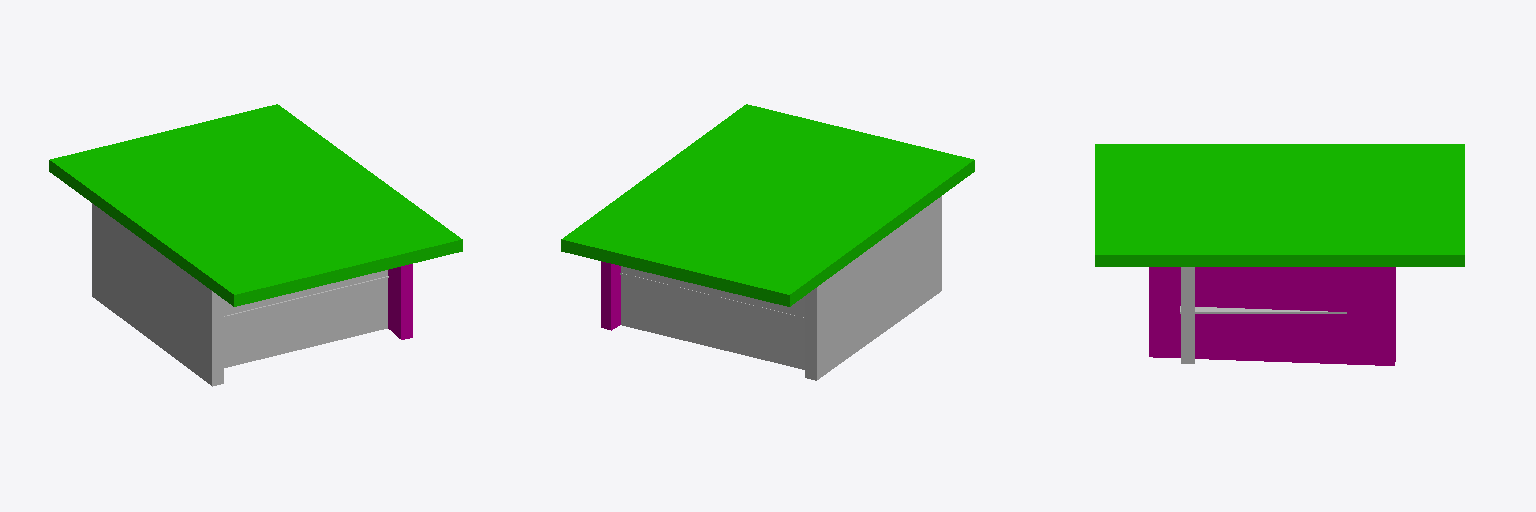
Rendered from Testroom.obj.obj.
3 views of the same model, side by side, from view 1: azimuth 30°, elevation 25°; view 2: azimuth 150°, elevation 25°; view 3: azimuth 270°, elevation 25° (orthographic).
Visible parts, largest first — view 1: Cube.005_Material.004, Cube.003_Material.006, Cube.002_Material.002, Cube.004_Material.003; view 2: Cube.005_Material.004, Cube.003_Material.006, Cube.001_Material.001, Cube.004_Material.003; view 3: Cube.005_Material.004, Cube.004_Material.003, Cube.002_Material.002, Cube_Material.005.
Boxes of the visible parts, x1,y1,x2,y2 form: Cube.005_Material.004: [49, 104, 462, 306]; Cube.003_Material.006: [92, 203, 223, 386]; Cube.002_Material.002: [224, 270, 387, 367]; Cube.004_Material.003: [388, 264, 412, 339]; Cube.005_Material.004: [561, 104, 974, 306]; Cube.003_Material.006: [805, 196, 941, 380]; Cube.001_Material.001: [621, 266, 804, 369]; Cube.004_Material.003: [601, 261, 620, 330]; Cube.005_Material.004: [1095, 144, 1464, 266]; Cube.004_Material.003: [1149, 267, 1395, 365]; Cube.002_Material.002: [1181, 267, 1194, 363]; Cube_Material.005: [1180, 306, 1346, 313].
Size of the model in its own units: 39.53 by 18.68 by 55.48.